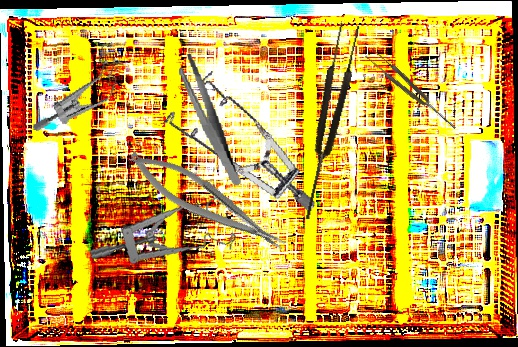Dressing Forceps: (176, 49, 242, 191)
Needle Holder: (122, 138, 291, 267)
Speculum: (153, 54, 317, 244), (87, 176, 243, 281), (30, 25, 132, 153)
Tissue Forceps: (293, 21, 364, 222), (364, 46, 460, 135)
